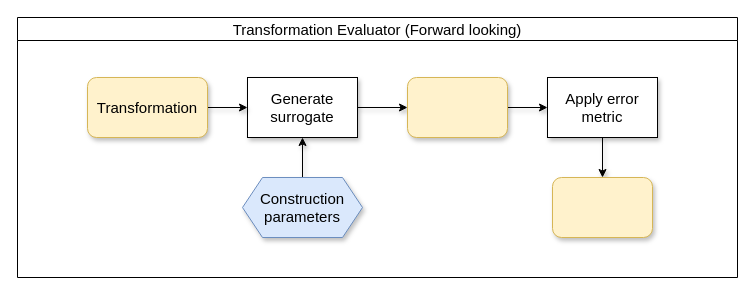
This 755x295 diagram has some shape labels left out. Each missing label, with the centre of its shape:
Evaluation result: (x=603, y=208)
Surrogate: (x=458, y=108)
